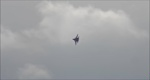maybay_muctieu: (70, 35, 83, 45)
